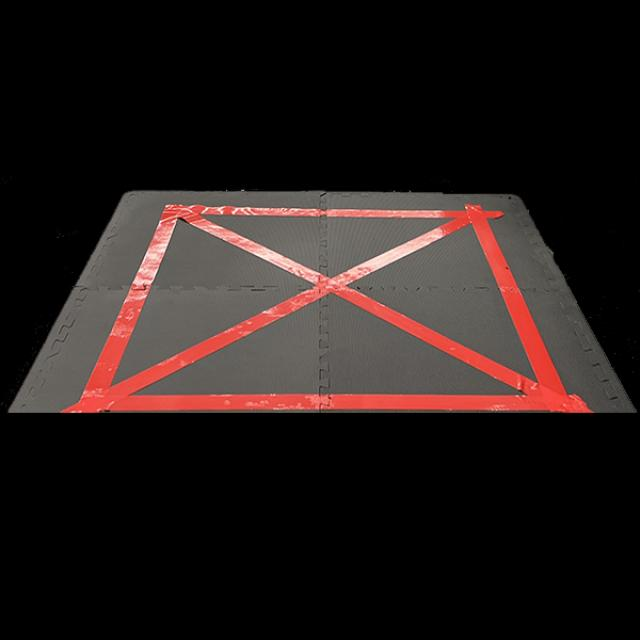landingPads: (6, 189, 634, 411)
